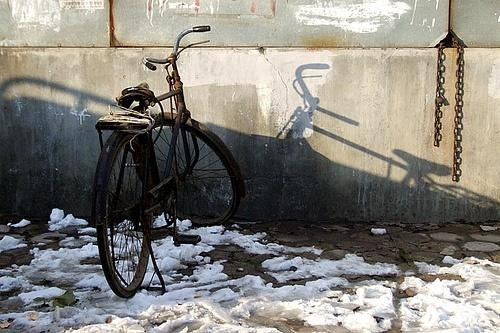bicycle: (93, 25, 245, 302)
